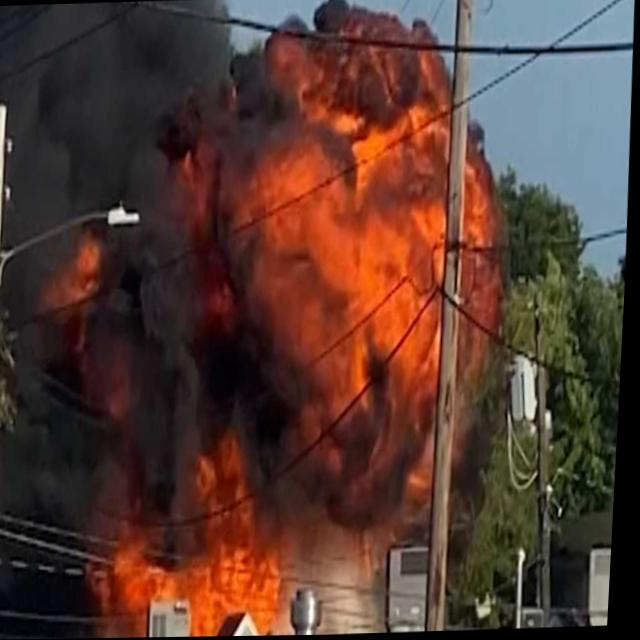Fire: (38, 52, 480, 627)
